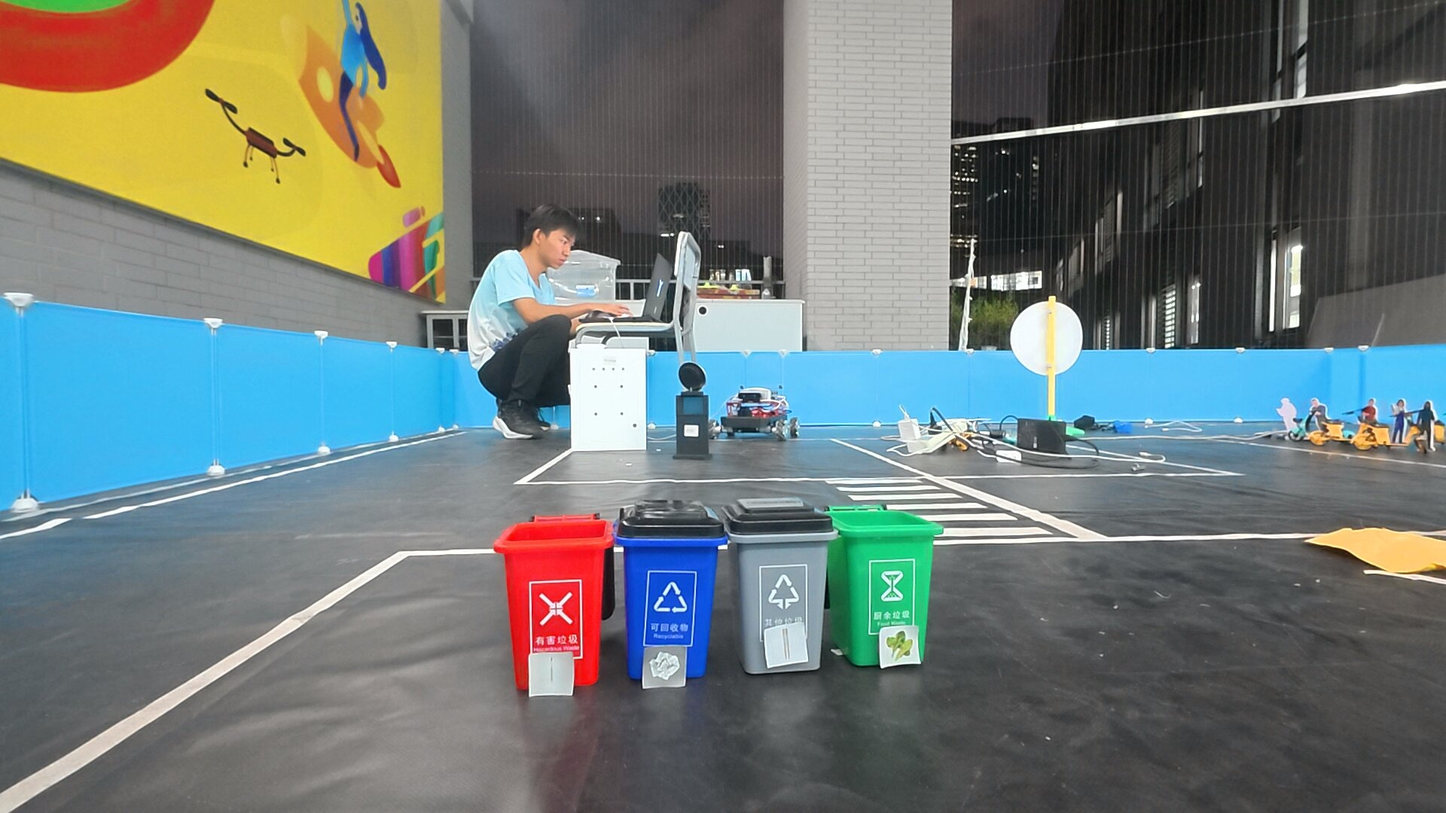food_trash: (882, 630, 917, 664)
hazardous_trash: (530, 654, 571, 693)
other_trash: (645, 648, 683, 685), (766, 631, 803, 662)
